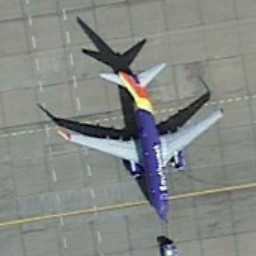Airplane: (45, 49, 239, 223)
